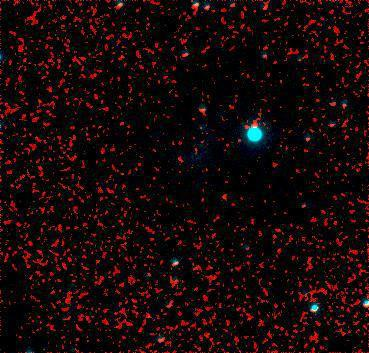star: (210, 181, 240, 211)
